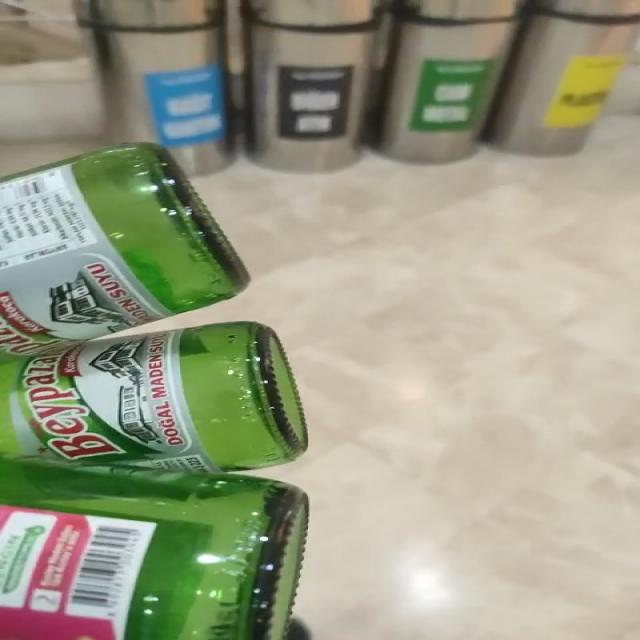glass: (0, 143, 307, 640)
